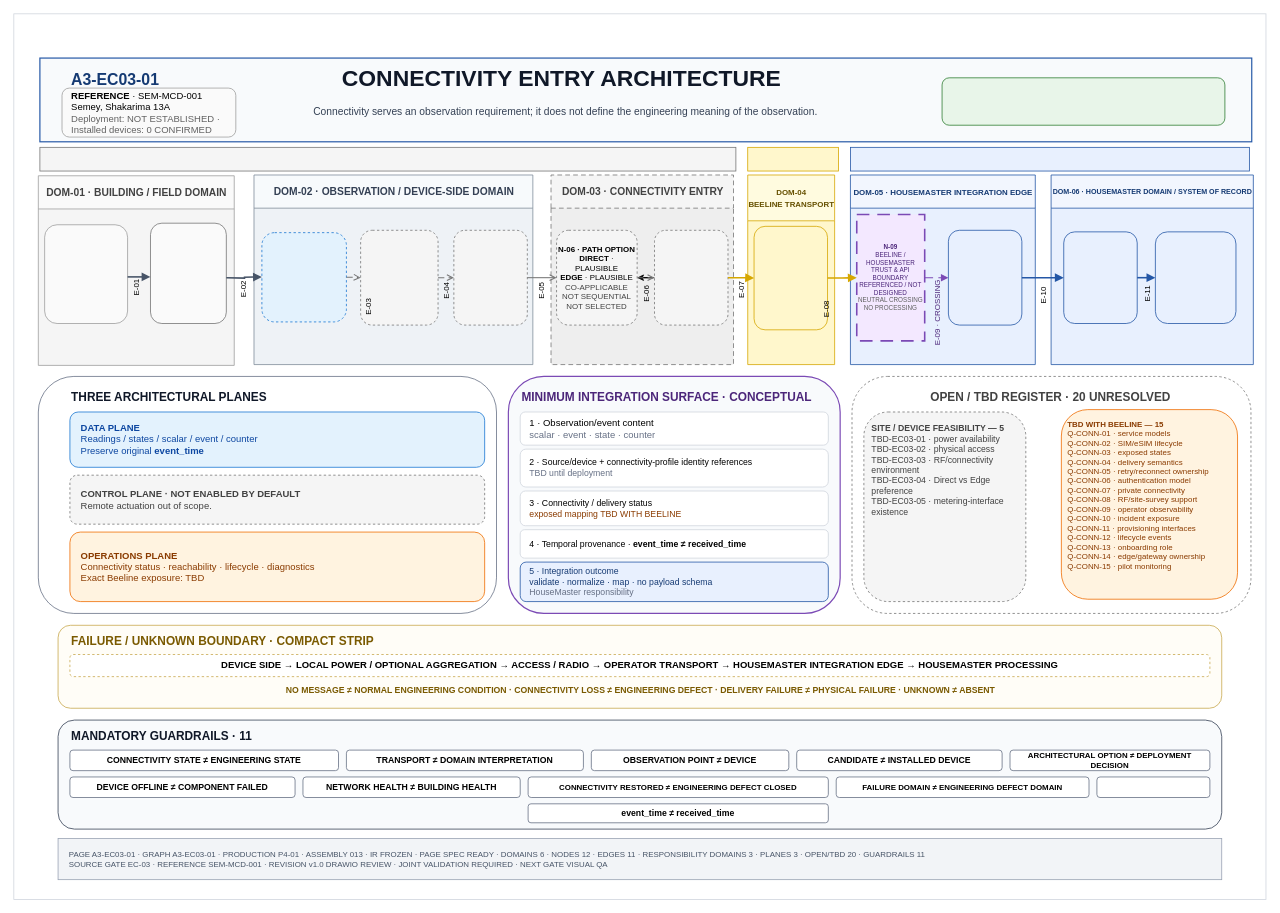
The diagram is 1280 pixels wide and 913 high, and some of its shapes have lost their labels. Here are the shapes that lost their labels. From the top down, the centre of each, then its label:
the point at 1083,101: FROZEN SEMANTICS DRAWIO REVIEW
the point at 387,159: RESP-01 · BUILDING / FIELD
the point at 793,159: RESP-02 · BEELINE TRANSPORT
the point at 1049,159: RESP-03 · HOUSEMASTER · INDEPENDENT DOMAIN LAYER / SYSTEM OF RECORD
the point at 86,274: N-01 SEM-MCD-001 PHYSICAL CONTEXT REFERENCE ONLY
the point at 188,273: N-02 ENGINEERING OBSERVATION NEED SOURCE-BACKED
the point at 303,277: N-03 MACHINE-CAPABLE OBSERVATION CANDIDATE L1 CONCEPTUAL
the point at 399,277: N-04 FIELD / SITE VALIDATION REQUIRED · TBD
the point at 490,277: N-05 CONCEPTUAL DEVICE ROLE / IDENTITY NOT INSTANTIATED
the point at 691,277: N-07 CONNECTIVITY ENTRY / REQUIREMENT CONCEPTUAL
the point at 790,278: N-08 BEELINE CONNECTIVITY / TRANSPORT PARTNER DOMAIN
the point at 985,277: N-10 HOUSEMASTER INTEGRATION EDGE authenticate validate · normalize · map
the point at 1100,277: N-11 OBSERVATION / EVIDENCE / DOMAIN INTERPRETATION HOUSEMASTER OWNED
the point at 1195,277: N-12 BUILDING STATE / SYSTEM OF RECORD HOUSEMASTER OWNED
the point at 1153,787: CONNECTIVITY ≠ CONTROL AUTHORITY
